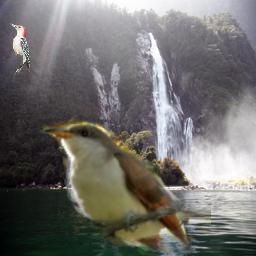Cuckoo: (38, 110, 211, 253)
Woodpecker: (9, 23, 30, 76)
